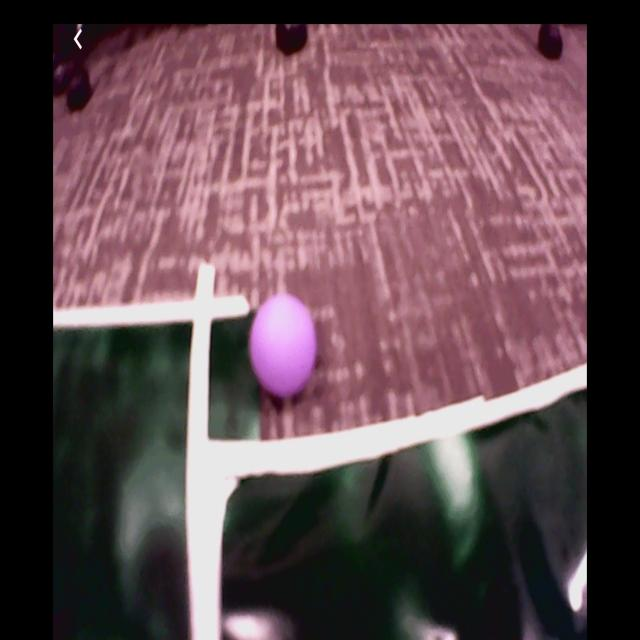ball: (251, 295, 316, 393)
